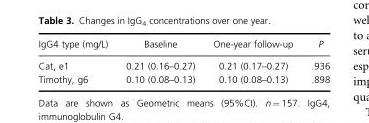table: (37, 37, 329, 84)
table column: (203, 37, 301, 84), (116, 37, 203, 84), (37, 37, 116, 84), (301, 37, 329, 84)
table column header: (37, 37, 329, 54)
table row: (37, 37, 329, 54), (37, 54, 329, 71), (37, 71, 329, 84)
